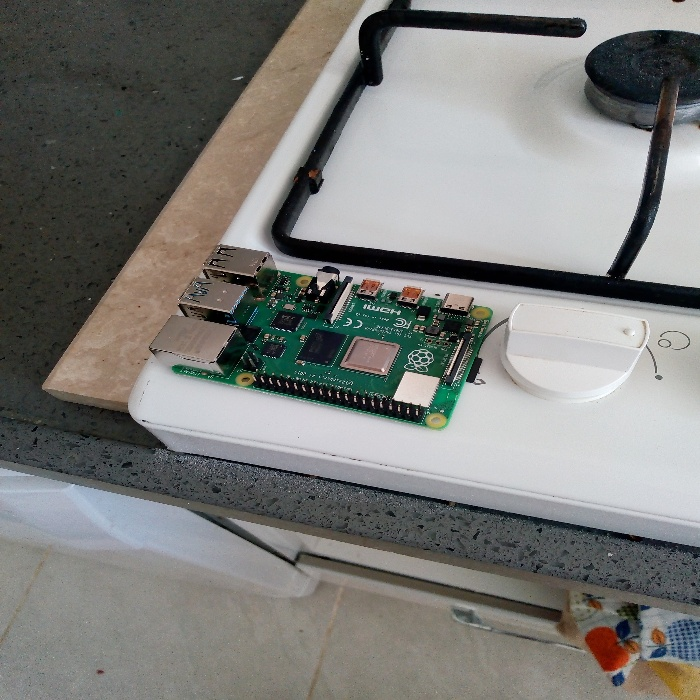raspberry: (141, 236, 499, 428)
